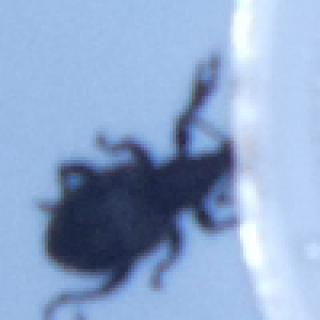bvw: (27, 45, 244, 318)
